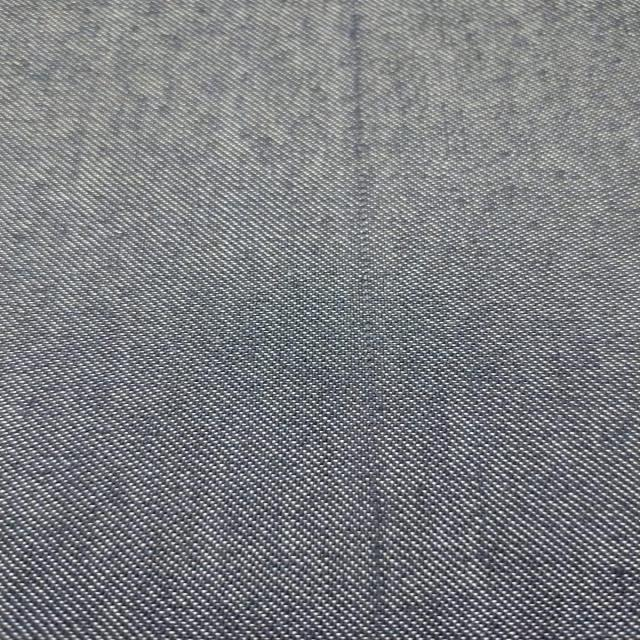Line: (345, 0, 393, 622)
